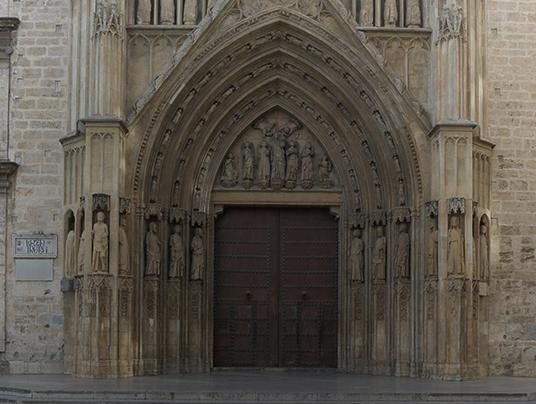arco-apuntado: (136, 4, 421, 189)
